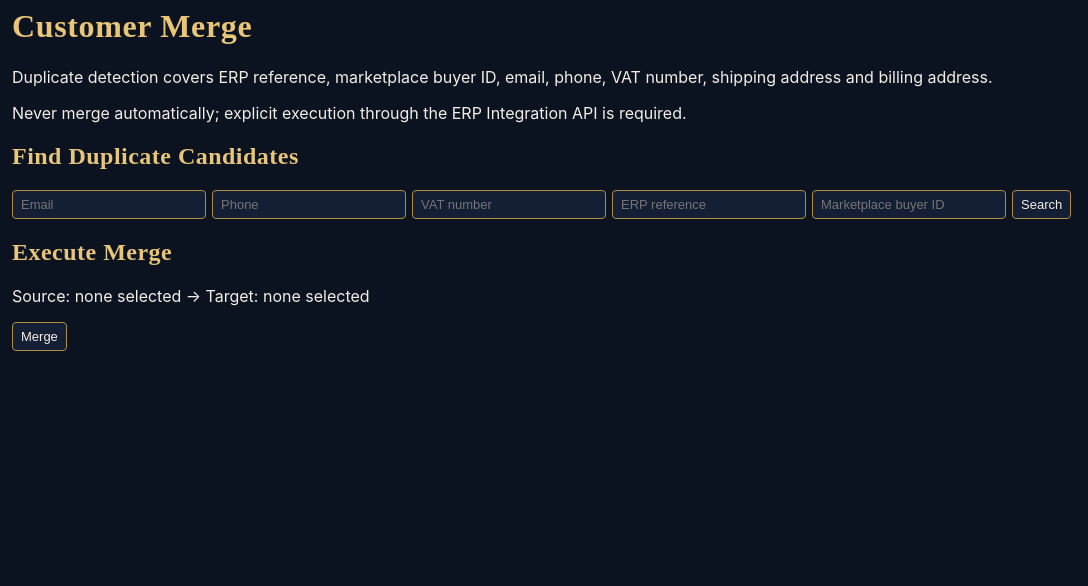
Test: Customer Merge page (Sprint 61B) › shows the backend's structured error message on failure
The width and height of the screenshot is (1088, 586).
Type "ada@x.test" into the field with placeholder "Email" at (109, 204), box [12,190,206,219]
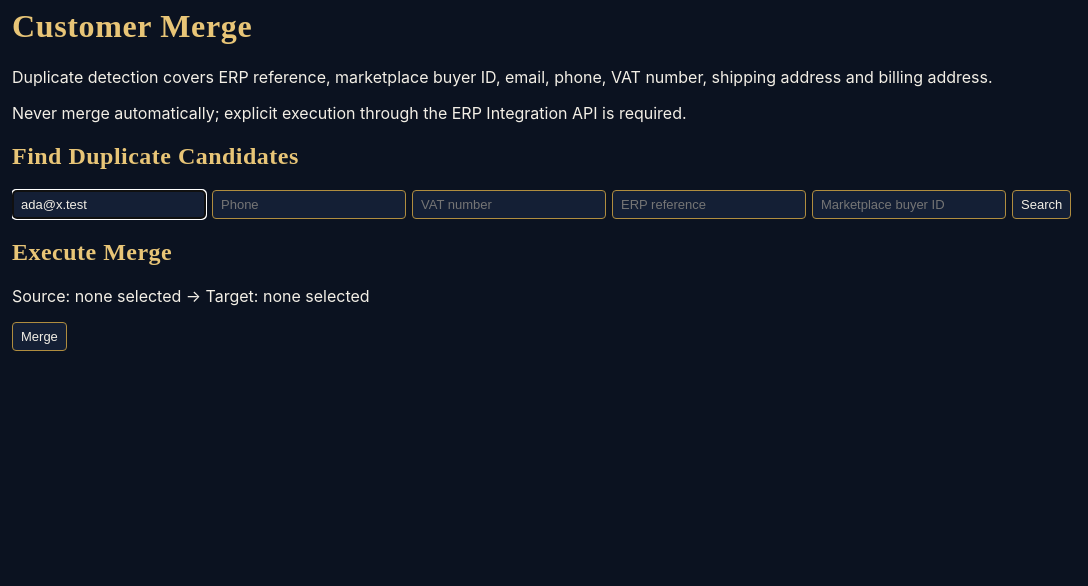
Click the button "Search" at (1042, 204), box [1012,190,1071,219]
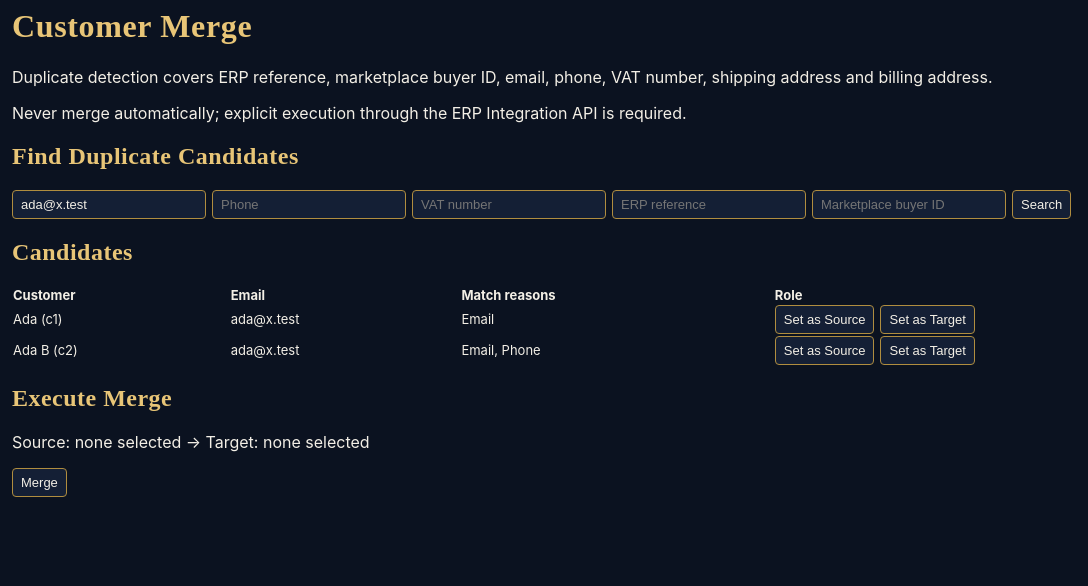
Check: the text "Ada (c1)" is shown, box [12,304,230,334]
Click the button "Set as Source" in the row of "c1" at (825, 319), box [775,304,874,334]
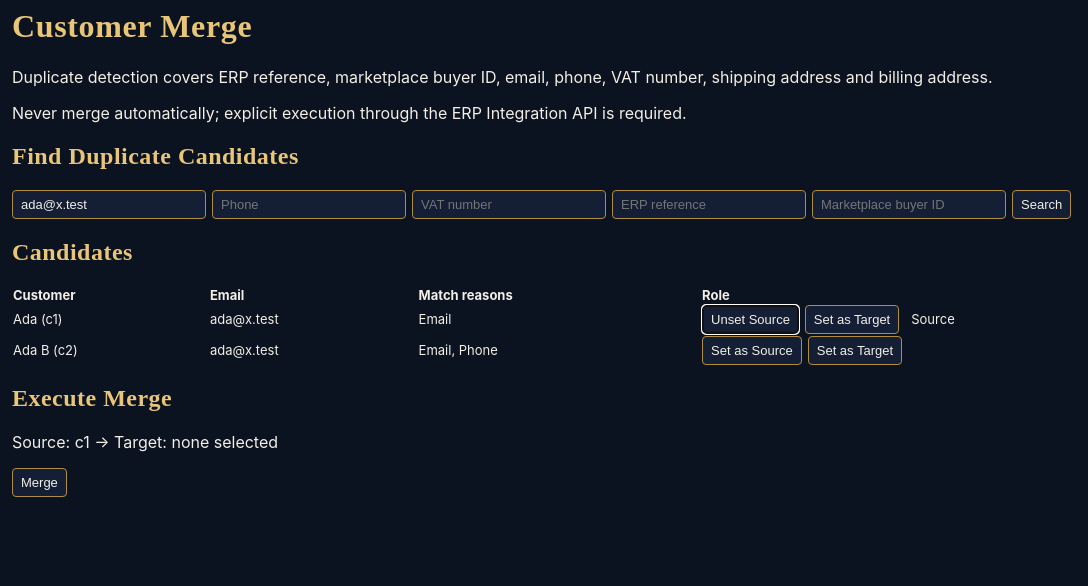
Click the button "Set as Target" in the row of "Ada B" at (855, 350), box [808,336,902,364]
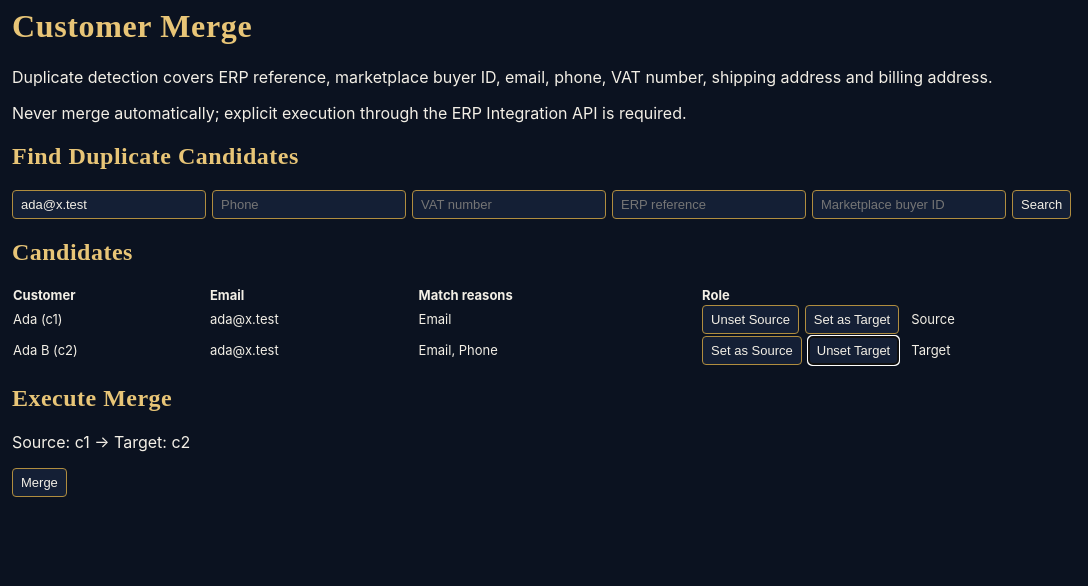
Click the button "Merge" at (39, 483), box [12,468,67,497]
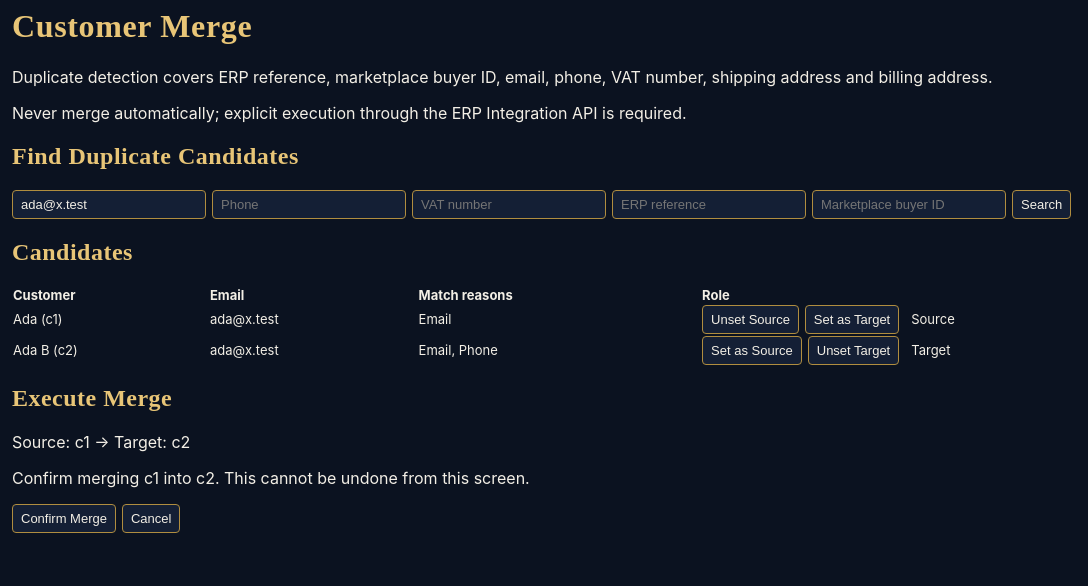
Click the button "Confirm Merge" at (64, 519), box [12,504,116,533]
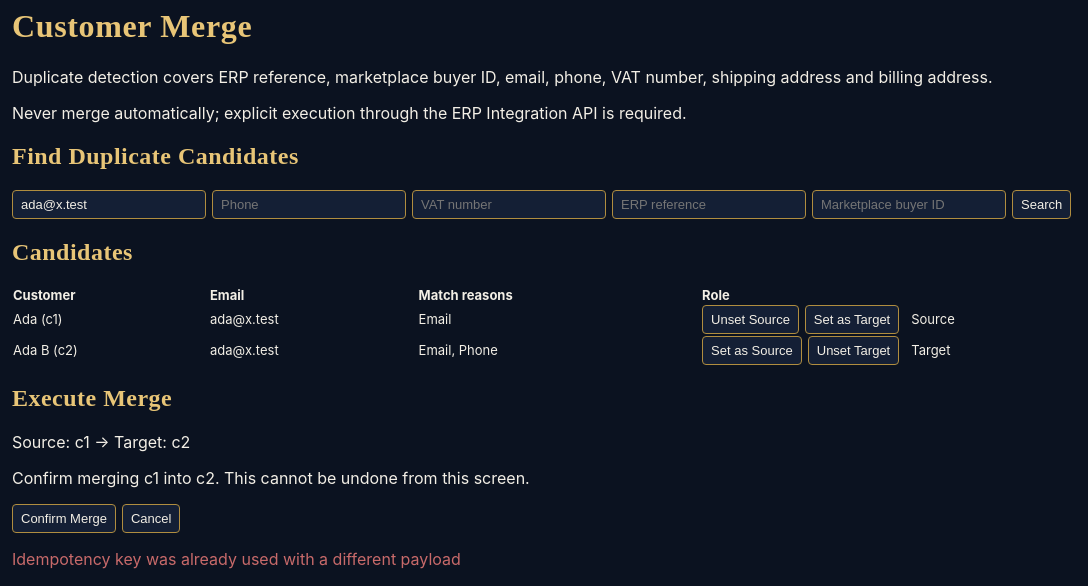
Check: the message reads "Idempotency key was already used with a different payload", box [12,549,461,569]
